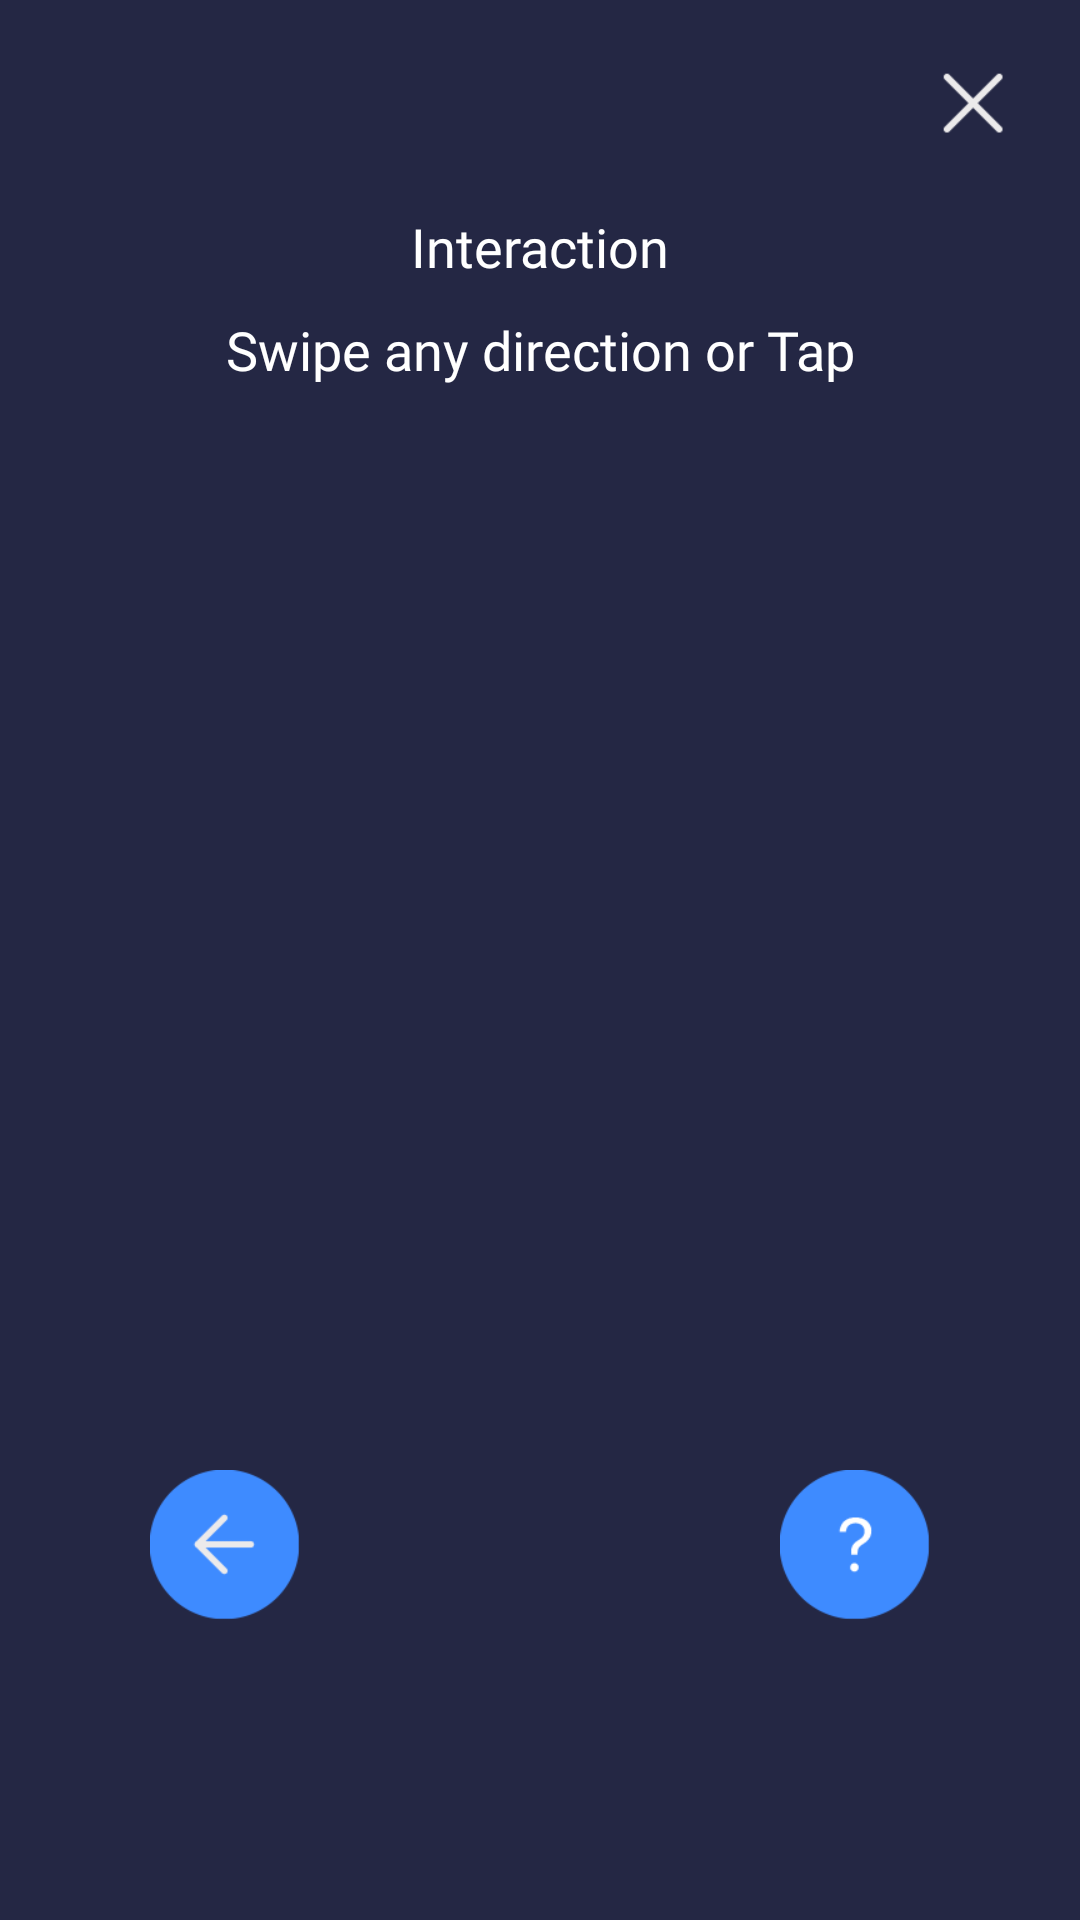

Named icons in this screenshot (1080*1920) and their bounding boxes, detection(x1, y1, x2, y2):
back: detection(150, 1470, 299, 1619)
close: detection(943, 73, 1003, 133)
help: detection(780, 1470, 929, 1619)
